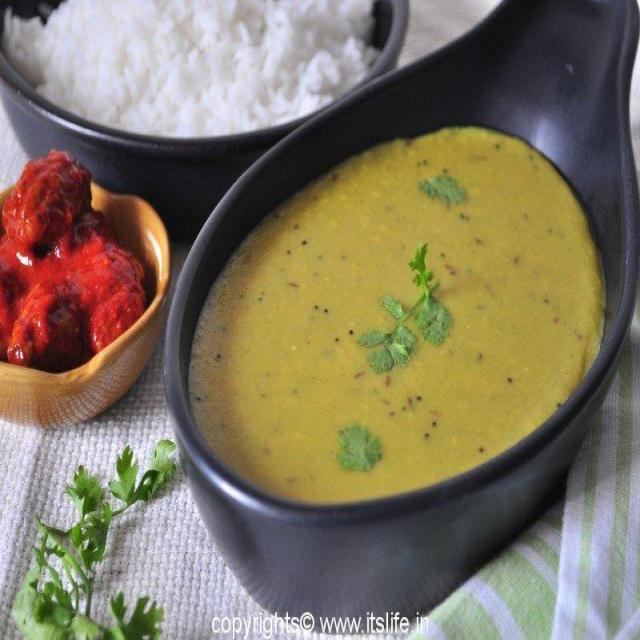dal: (194, 136, 561, 498)
rice: (25, 1, 365, 145)
